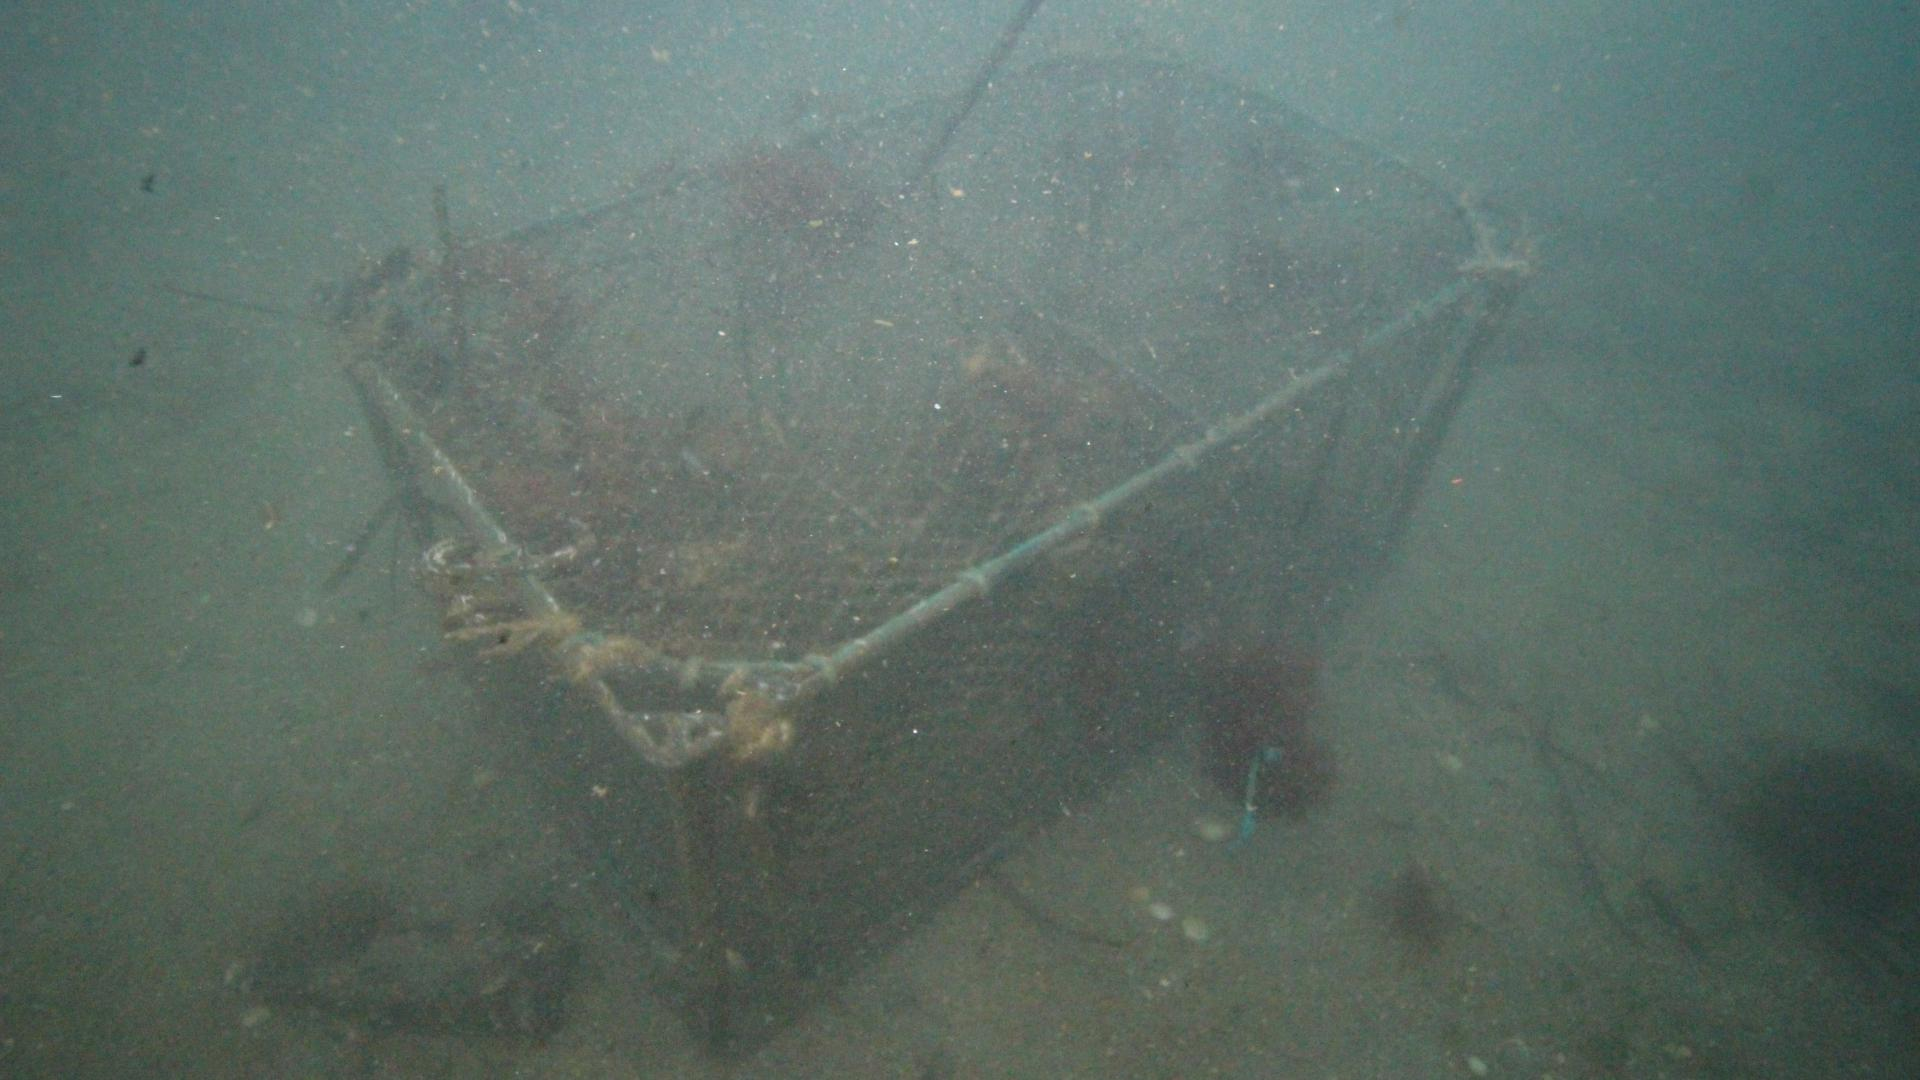rectangular fish trap: (316, 38, 1538, 1062)
